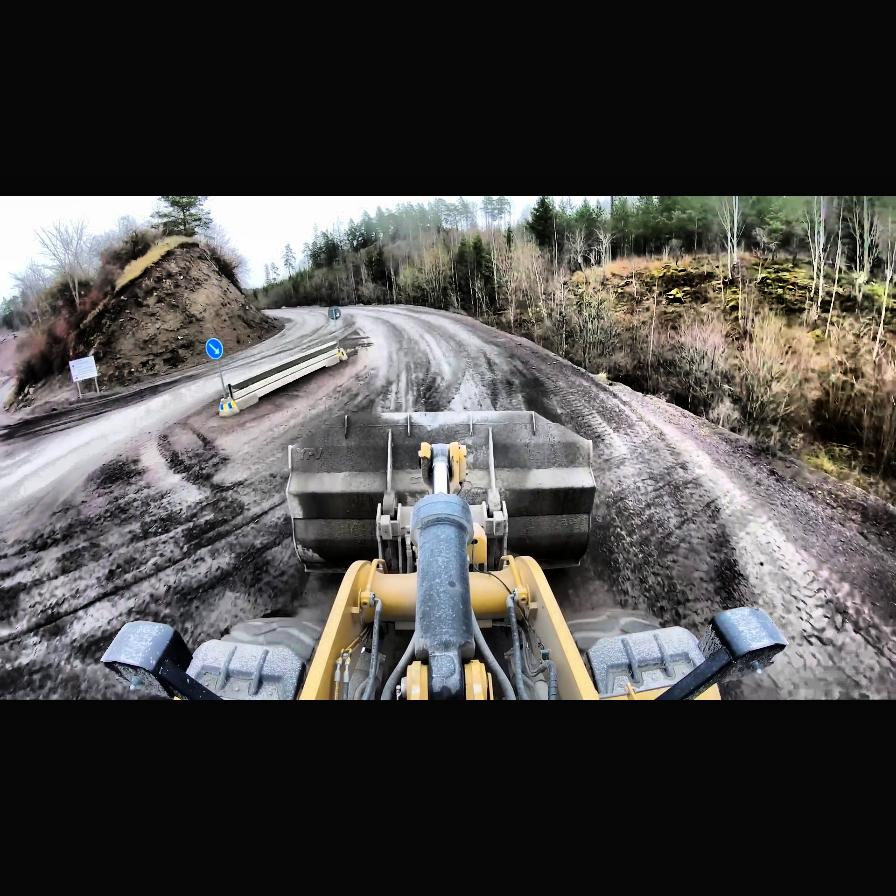anchor: (419, 442, 466, 496)
